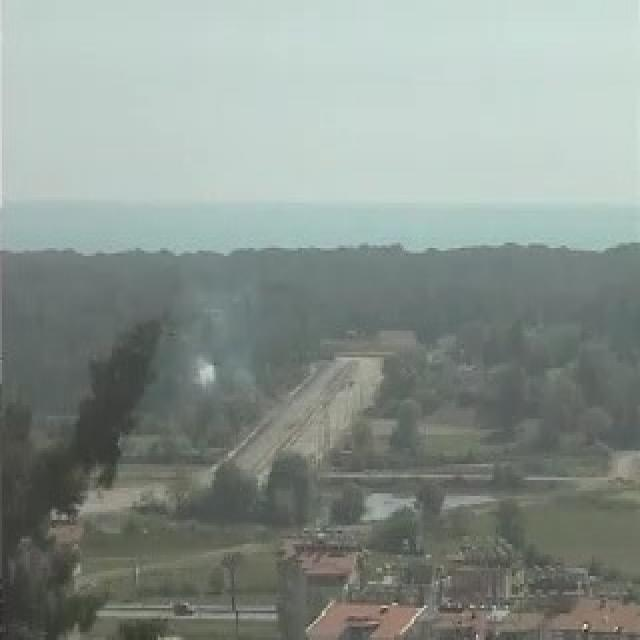smoke: (174, 315, 256, 399)
